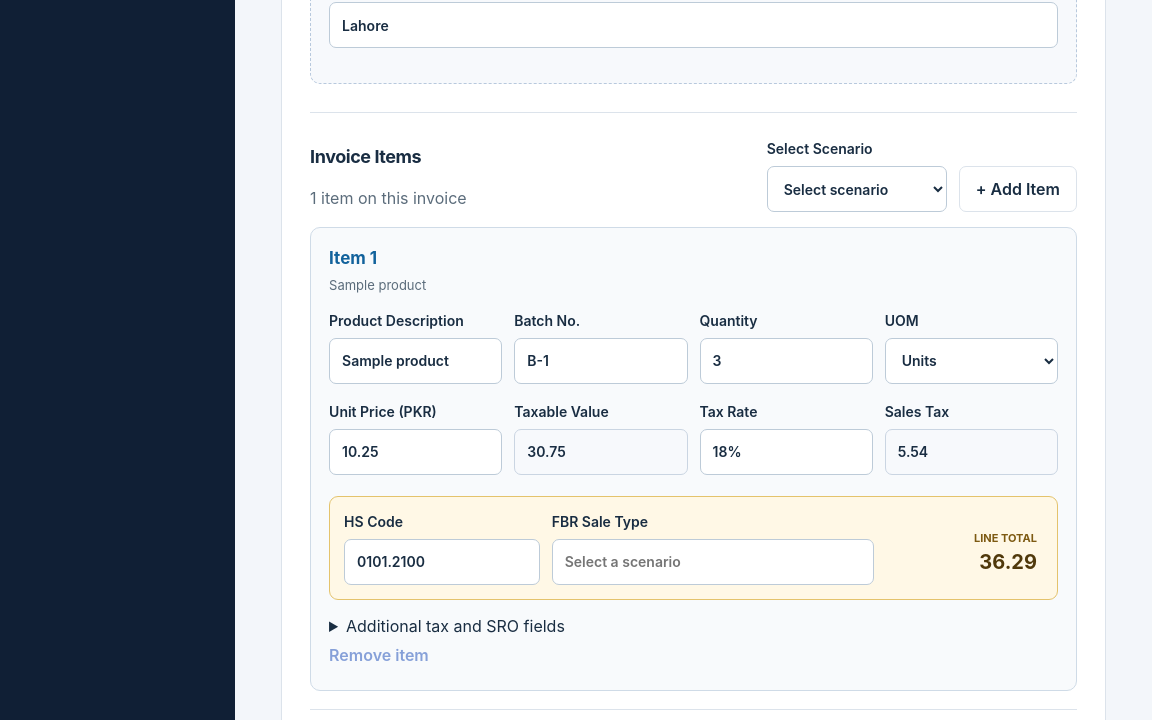
tax preview rounds 42.70 at 5 percent to the same 2.14 used on save
This screenshot has width=1152, height=720.
(page scrolled)
Step 1. Replace the text in the number field labelled "Quantity" with "1" → (786, 360), box [700,338,873,384]
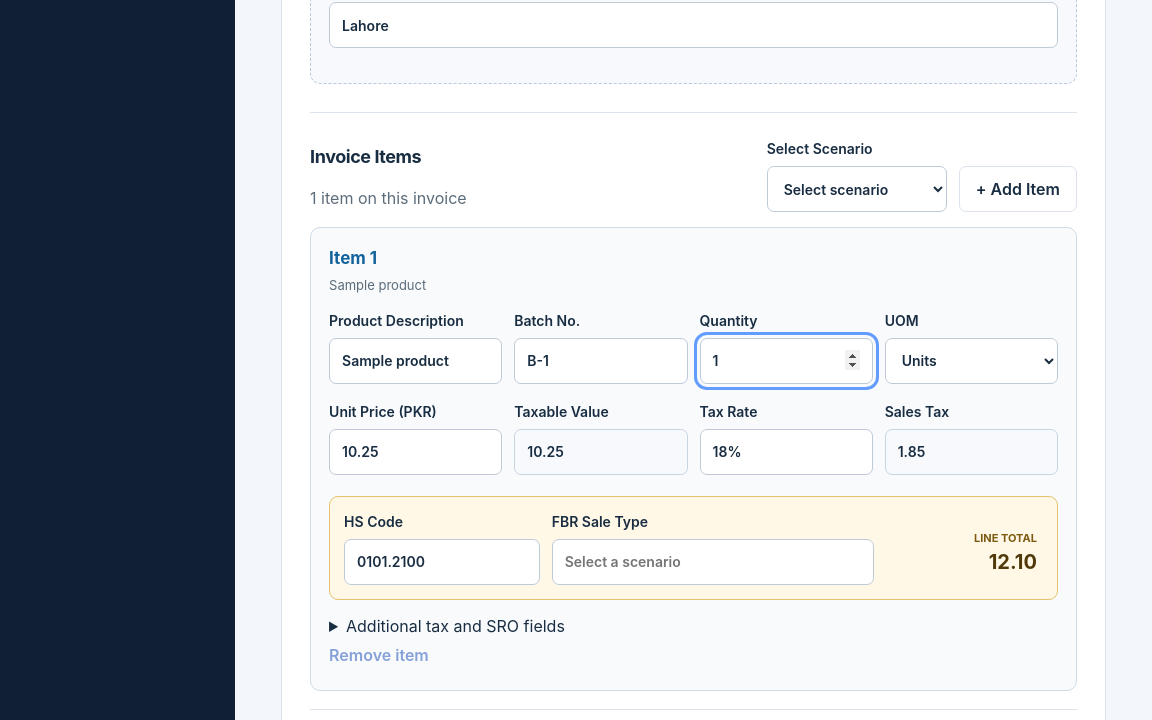
Step 2. Replace the text in the number field labelled "Unit Price (PKR)" with "42.70" → (416, 452), box [329,428,502,474]
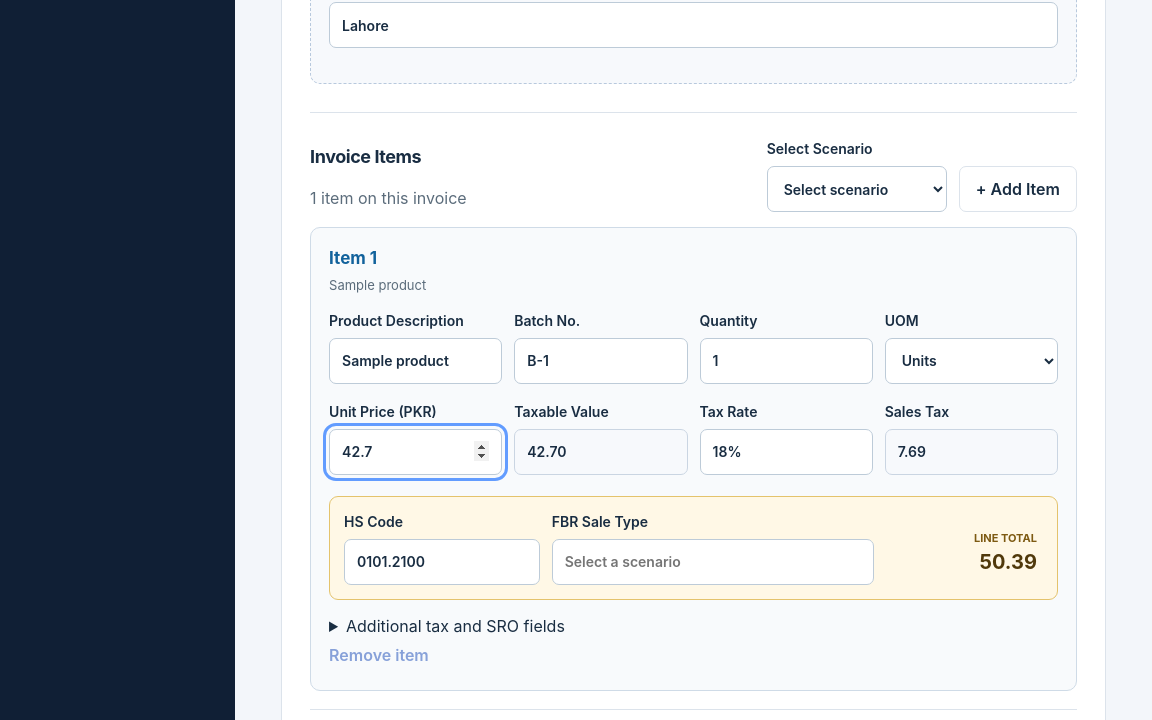
Step 3. Type "5%" into the field labelled "Tax Rate" → (786, 452), box [700,428,873,474]
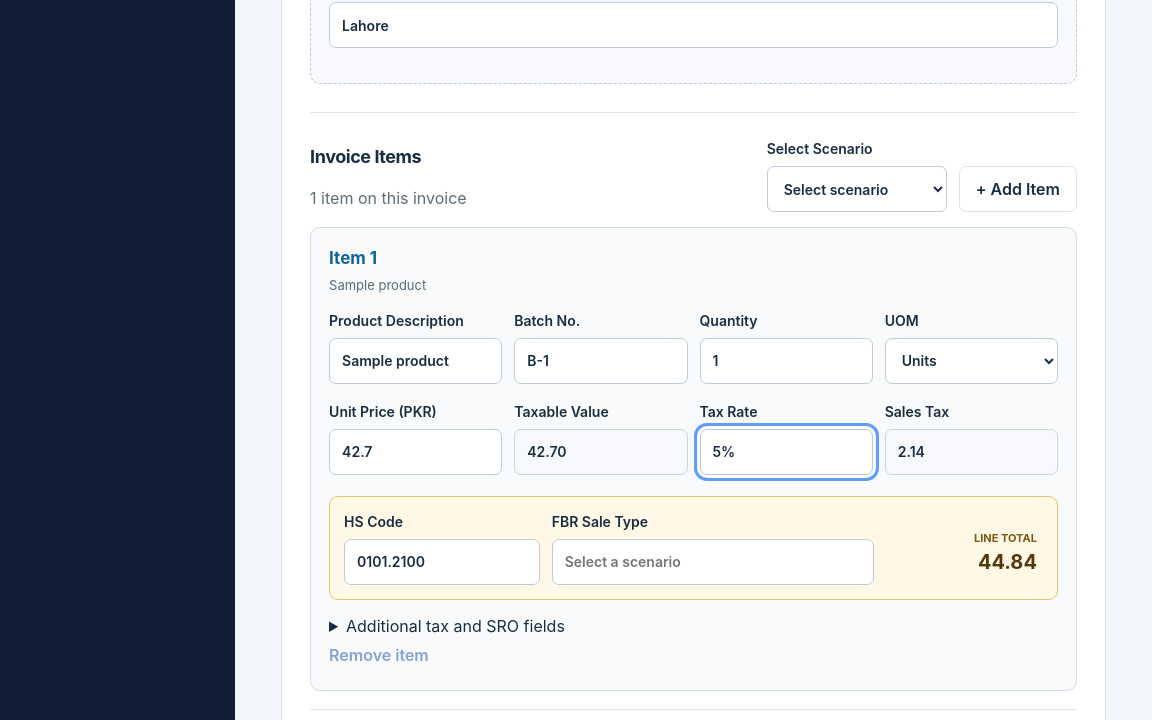
Expected: the text named "Taxable Value" reads "42.70", [527,443,567,460]
Expected: the text named "Sales Tax" reads "2.14", [898,443,925,460]
